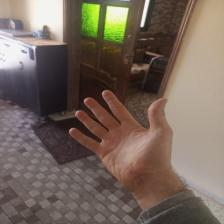five: (66, 88, 182, 184)
